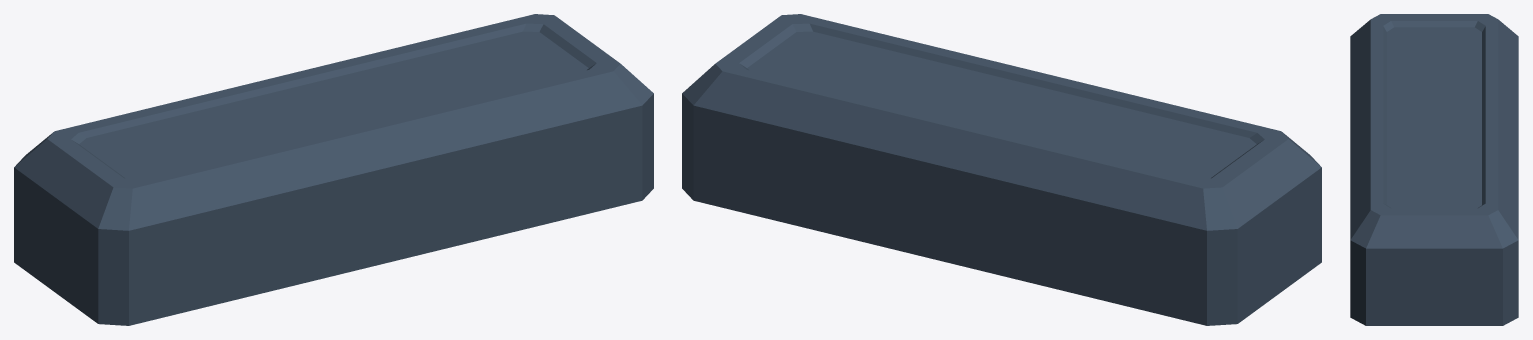
Rendered from IronIngotB.fbx.
The picture shows the model from 3 angles, left to right: view 1: azimuth 30°, elevation 25°; view 2: azimuth 150°, elevation 25°; view 3: azimuth 270°, elevation 25°; orthographic projection. The views are drawn at different scales.
Parts seen in each view (by area): view 1: IronIngotB; view 2: IronIngotB; view 3: IronIngotB.
Part boxes in pixels (x1,y1,x2,y2): IronIngotB: [14, 14, 653, 325]; IronIngotB: [682, 14, 1321, 325]; IronIngotB: [1350, 14, 1518, 325].
Bounding box in the file's own units: 61.45 × 13.13 × 19.8.
